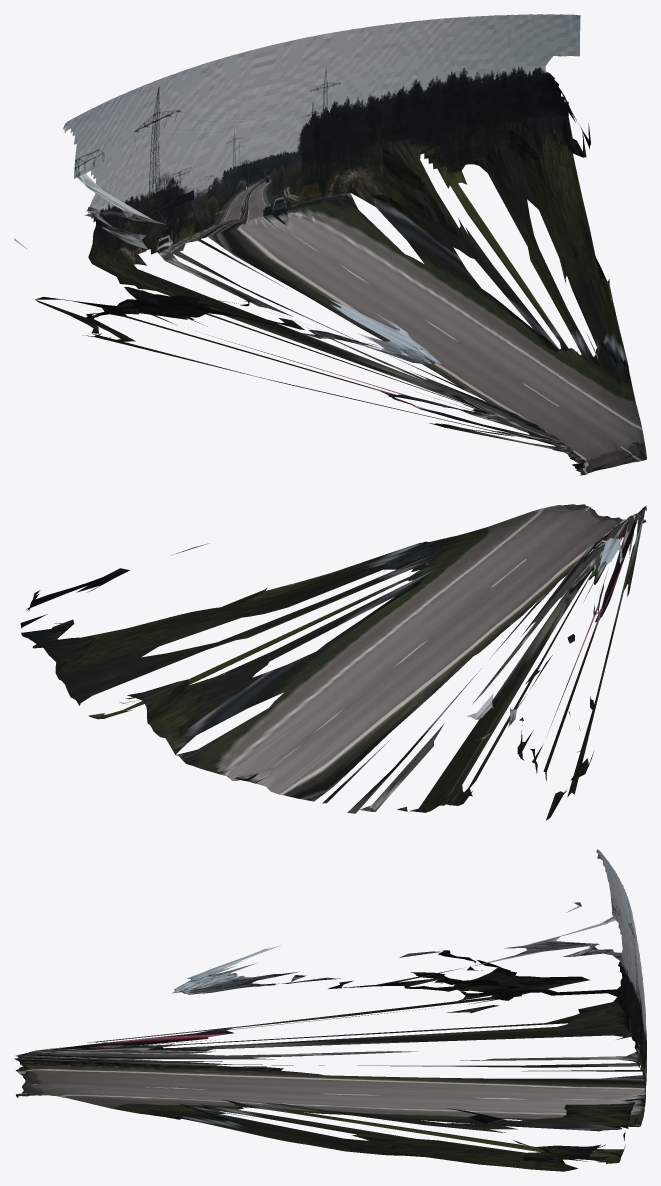
3 views of the same model, one above another, from view 1: azimuth 30°, elevation 25°; view 2: azimuth 150°, elevation 25°; view 3: azimuth 270°, elevation 25° (orthographic). The views are drawn at different scales.
Visible parts, largest first — view 1: defaultobject; view 2: defaultobject; view 3: defaultobject.
Part boxes in pixels (bbox=[...]): defaultobject: bbox=[14, 14, 646, 475]; defaultobject: bbox=[20, 504, 646, 820]; defaultobject: bbox=[14, 849, 646, 1171].
Size of the model in its own units: 40.88 by 12.83 by 44.79.
1 material, 1 textured.
